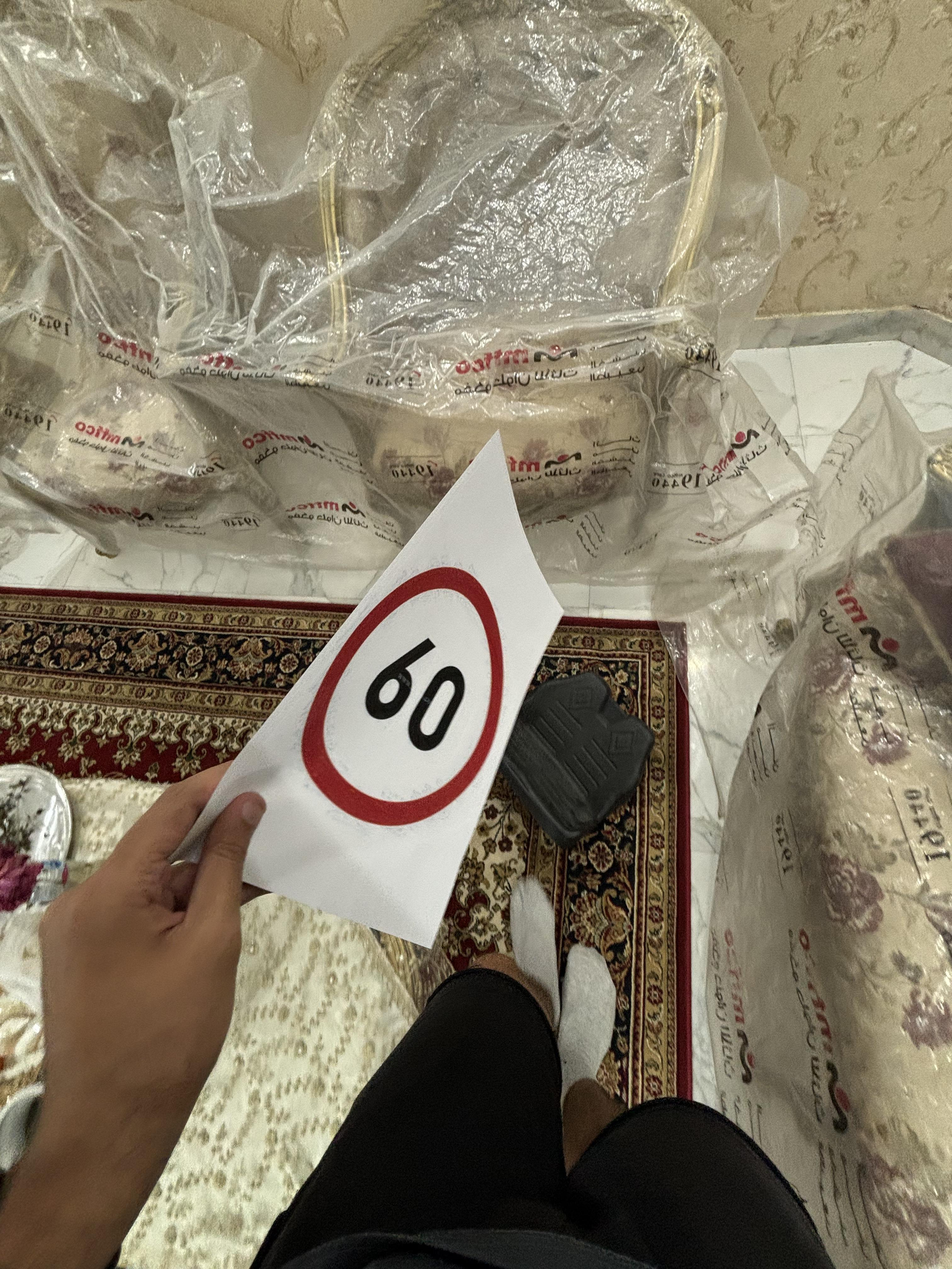60-Speed: (312, 558, 523, 833)
